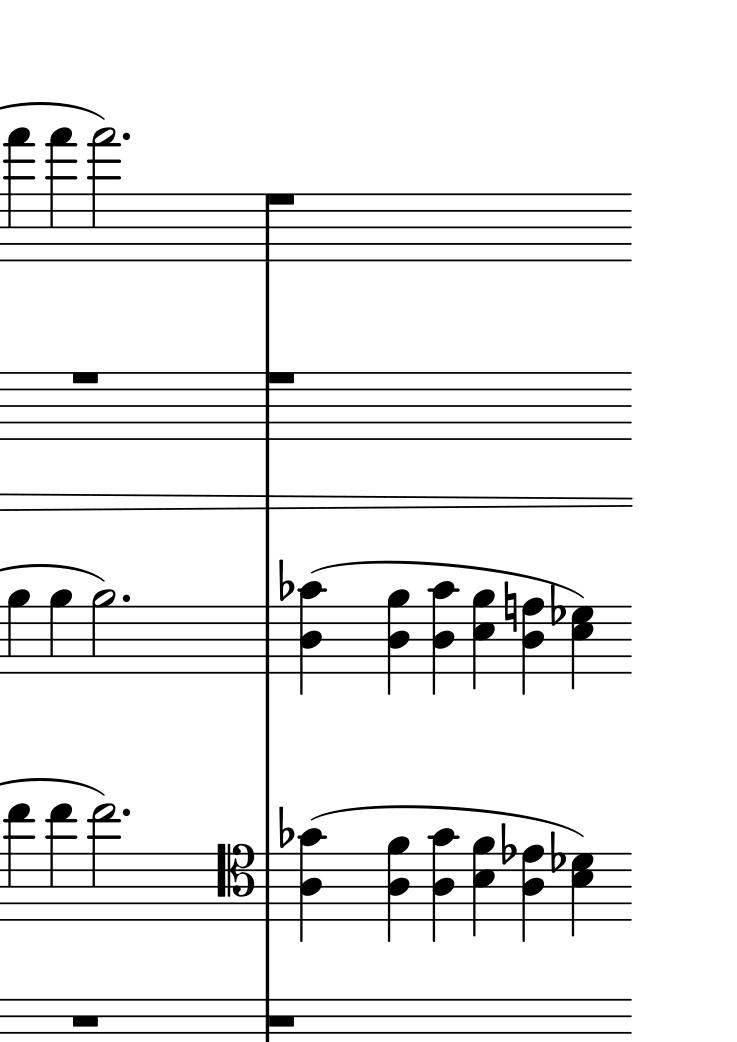2_13: (89, 804, 117, 925)
2_15: (89, 127, 119, 264)
2_9: (91, 588, 117, 675)
4_13: (48, 802, 74, 925), (6, 803, 32, 925)
4_15: (6, 128, 31, 265), (49, 127, 72, 265)
4_4_10: (295, 579, 327, 697), (428, 580, 460, 698), (427, 826, 459, 944), (296, 828, 328, 946)
4_4_8: (521, 596, 545, 696), (521, 843, 545, 943)
4_4_9: (387, 589, 410, 697), (387, 836, 410, 944)
4_5_7: (570, 604, 595, 691), (571, 852, 596, 939)
4_5_9: (472, 588, 496, 691), (471, 835, 495, 938)
4_9: (48, 587, 75, 677), (6, 587, 31, 676)
Flat: (548, 828, 570, 874), (548, 585, 570, 629), (496, 821, 517, 866), (278, 558, 296, 605), (278, 804, 295, 850)
Natural: (503, 580, 520, 634)
Rests1: (263, 370, 301, 391), (265, 1009, 301, 1030), (266, 188, 299, 210), (69, 369, 102, 386), (68, 1013, 103, 1028)
Single_barline: (258, 605, 282, 674), (258, 193, 281, 262), (258, 373, 280, 439), (259, 851, 279, 921)
Slur: (309, 558, 585, 600), (308, 804, 588, 839)
Tensor_Cclef: (214, 842, 256, 924)
dot: (118, 592, 134, 609), (117, 130, 134, 145), (119, 804, 133, 822)
